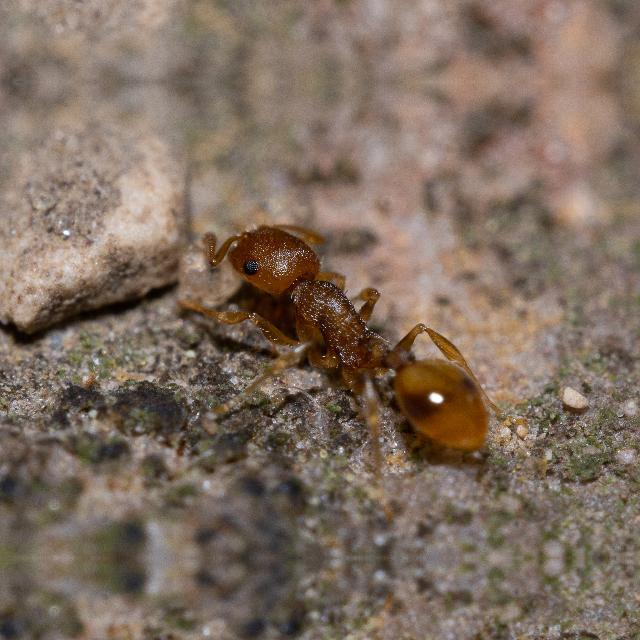Temnothorax: (173, 185, 565, 467)
